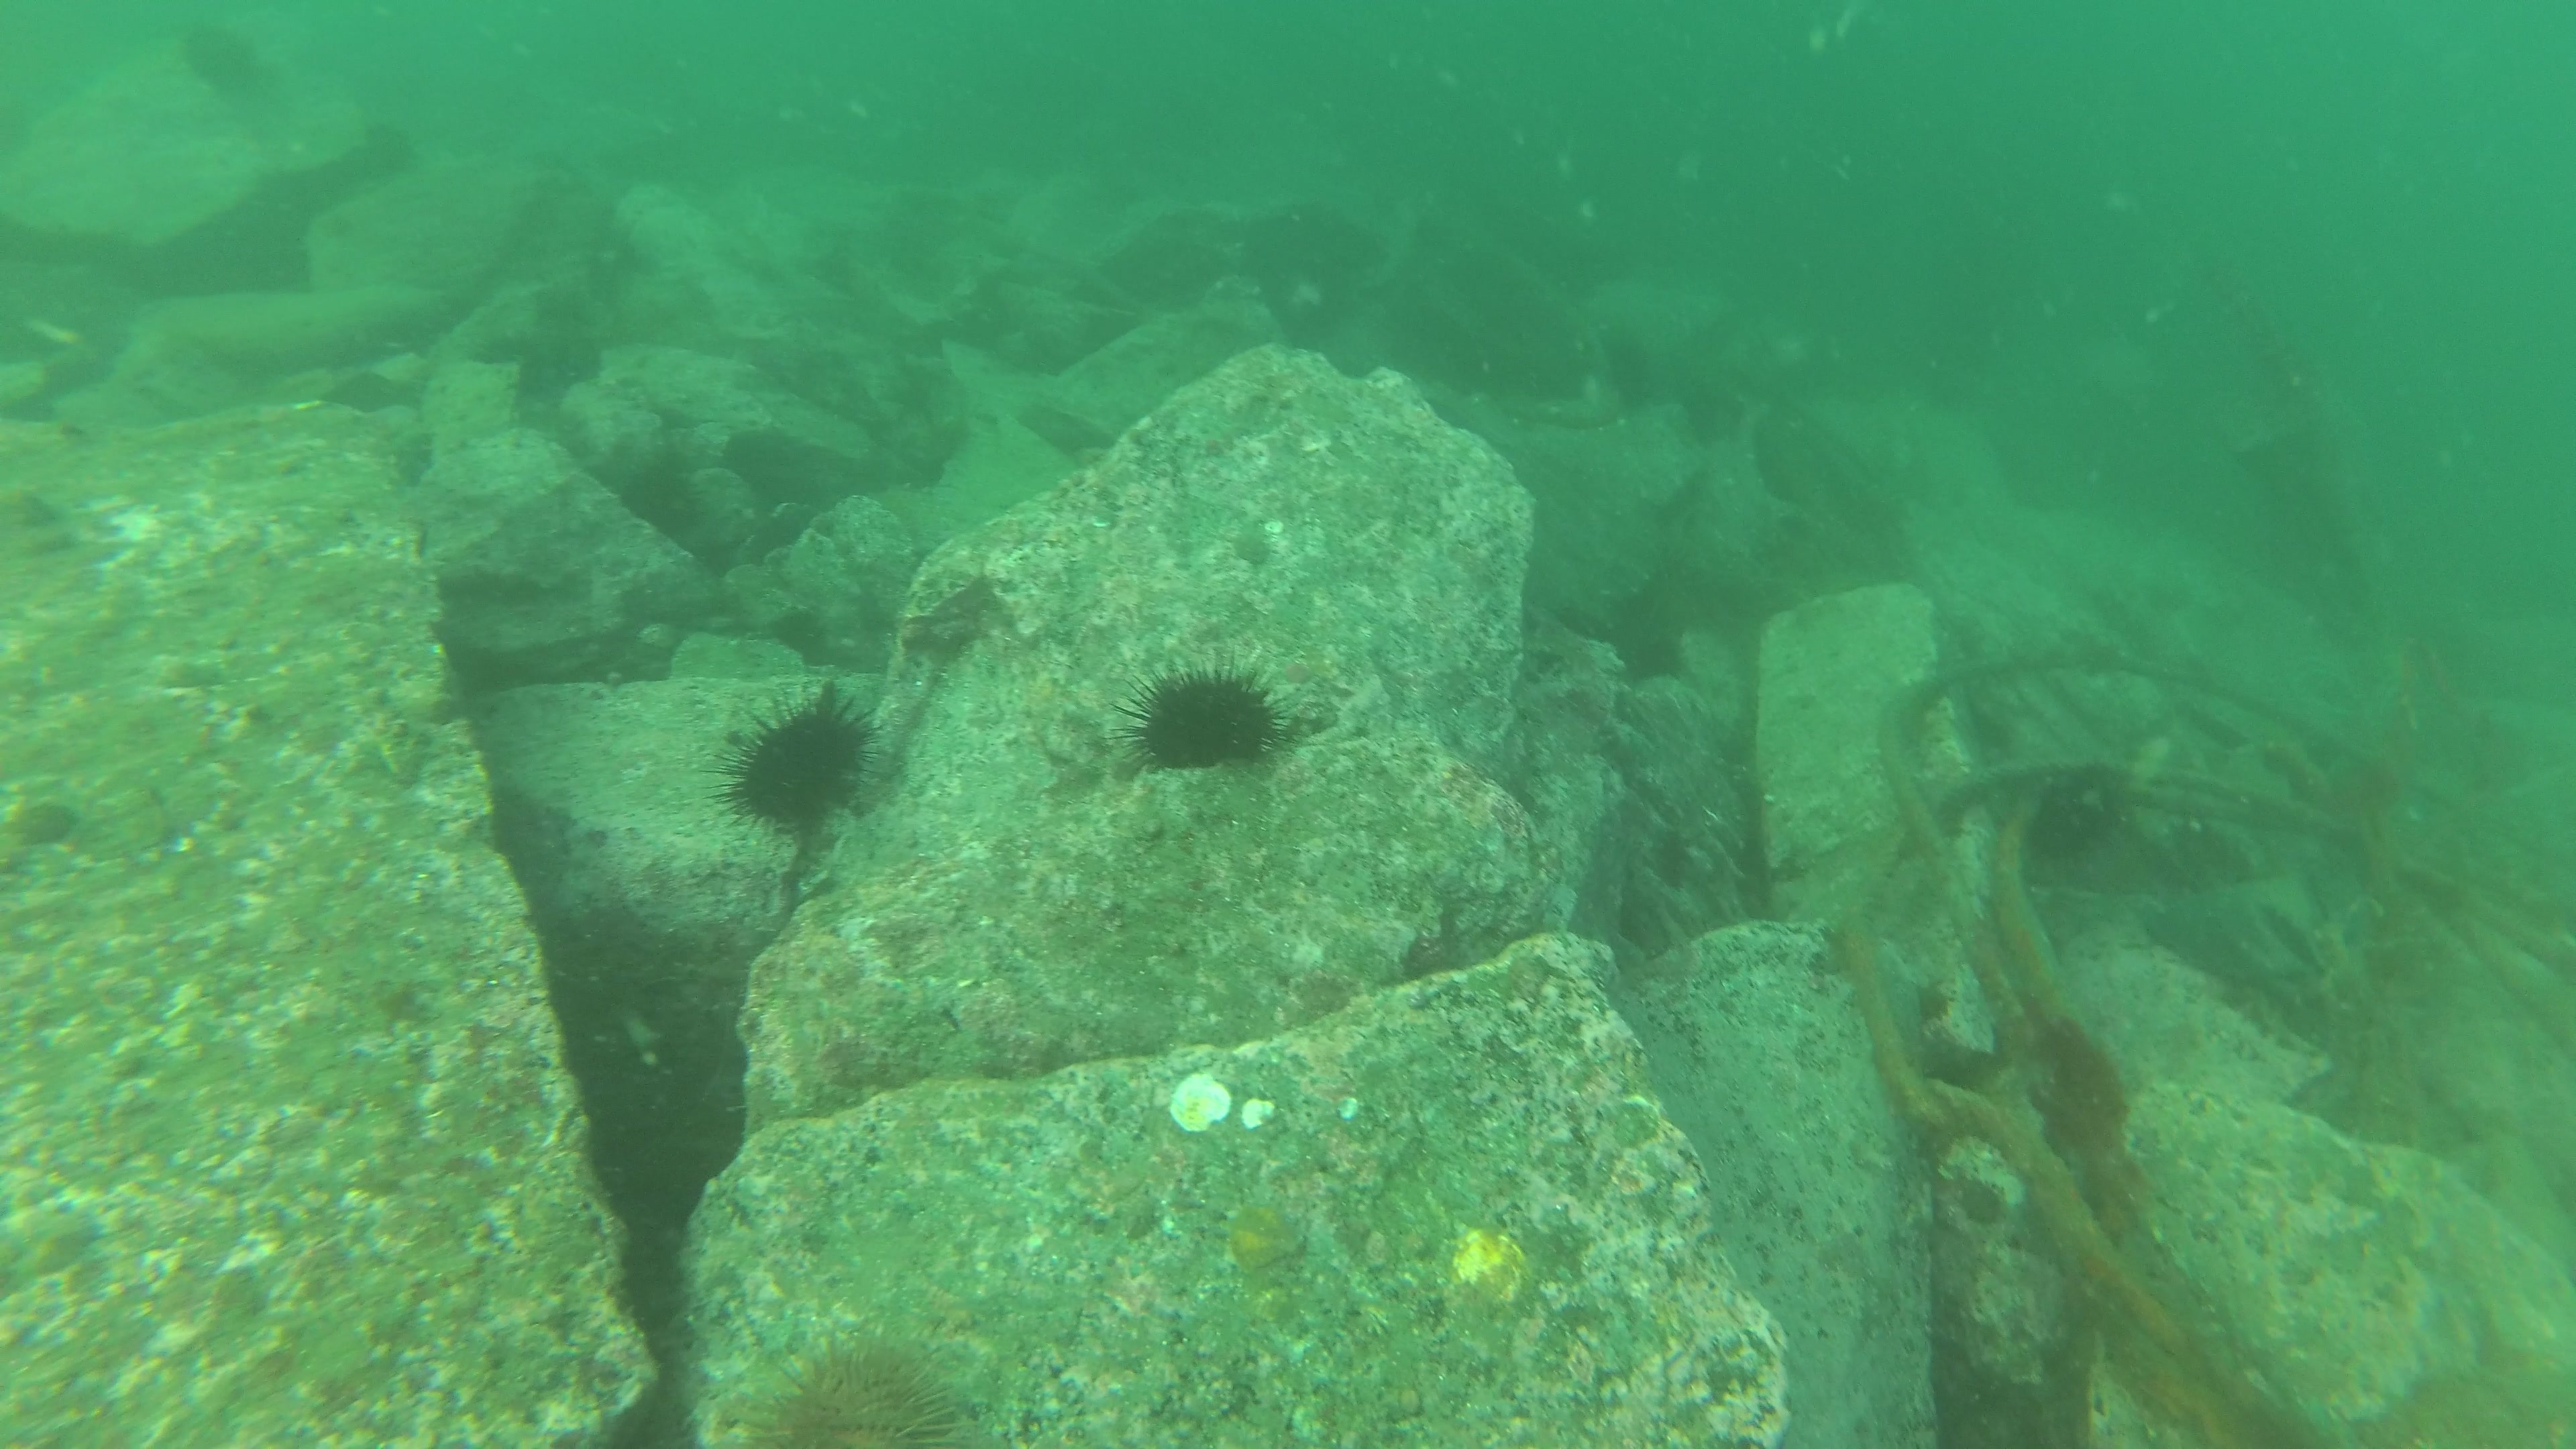echinus: (715, 681, 904, 837), (738, 1336, 987, 1449), (1113, 660, 1316, 780), (179, 11, 276, 97), (609, 453, 695, 536)
